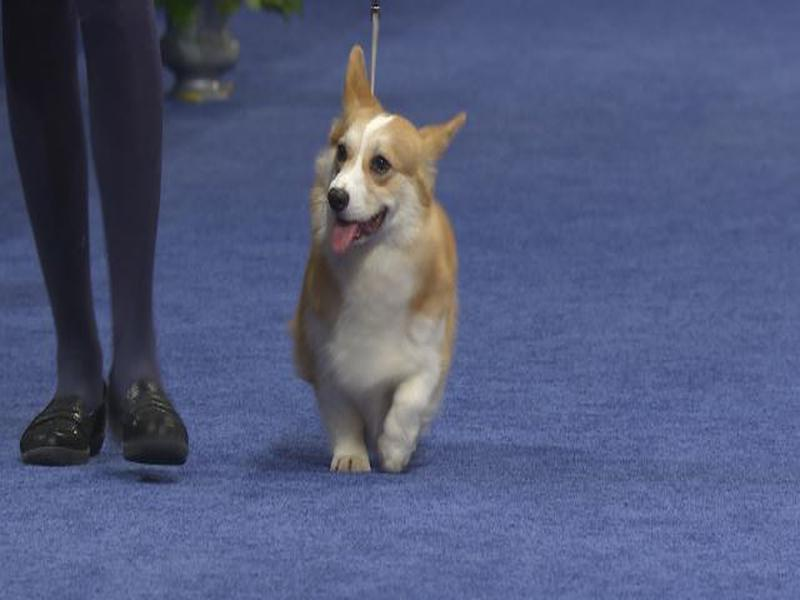corgi: (309, 43, 467, 256)
